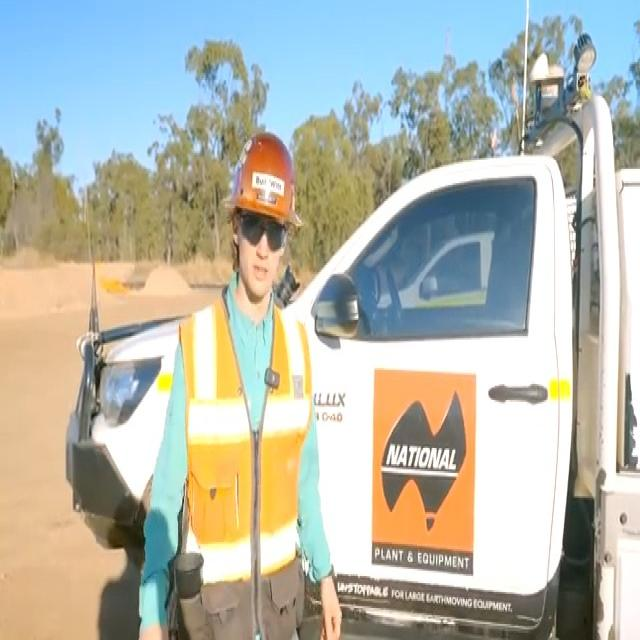safety_jacket: (180, 315, 302, 568)
